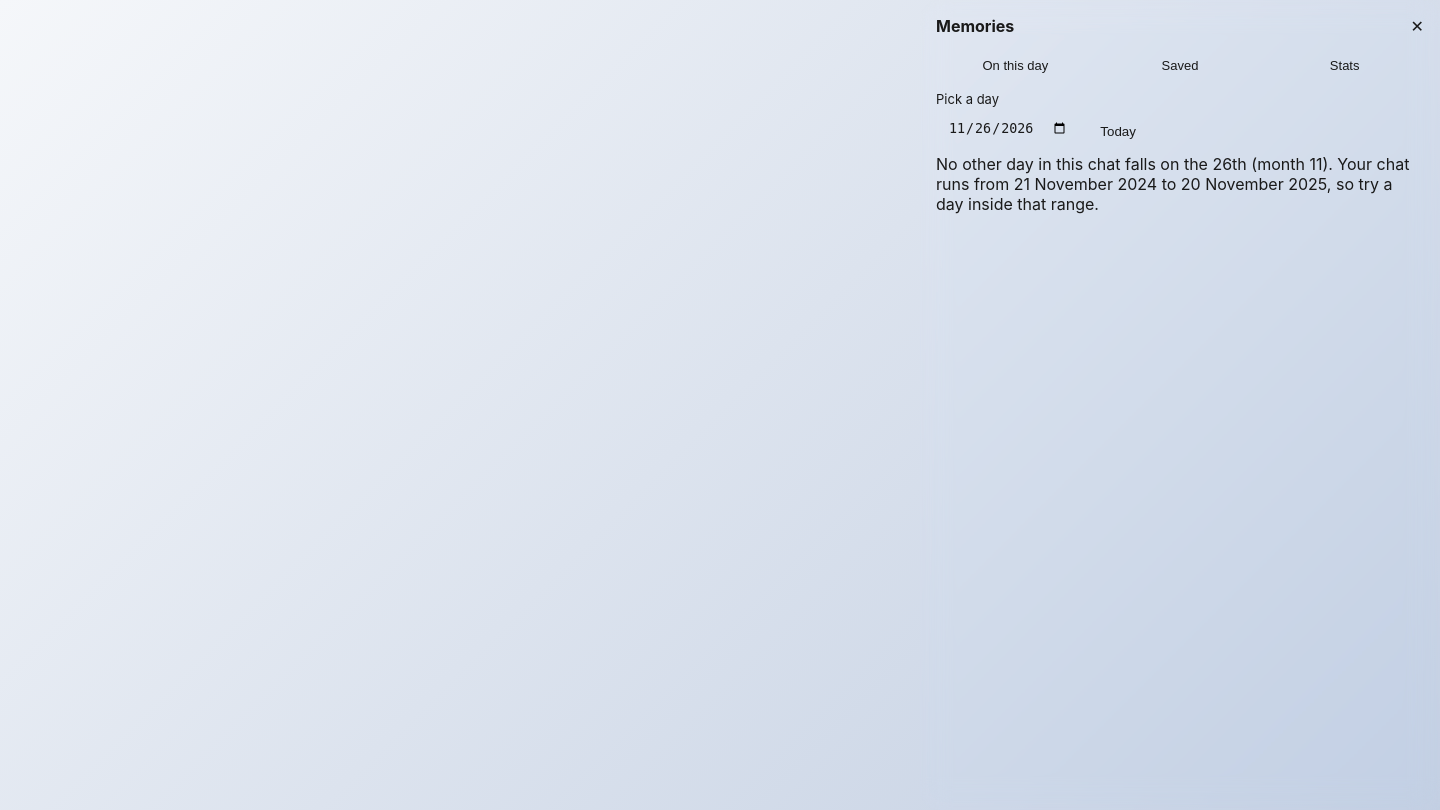
Stats › shows totals, who texts first, busiest days and favorite emojis
Later steps or results of the test are not shown.
Click the tab "Stats" at (1345, 66), box [1265,50,1424,81]
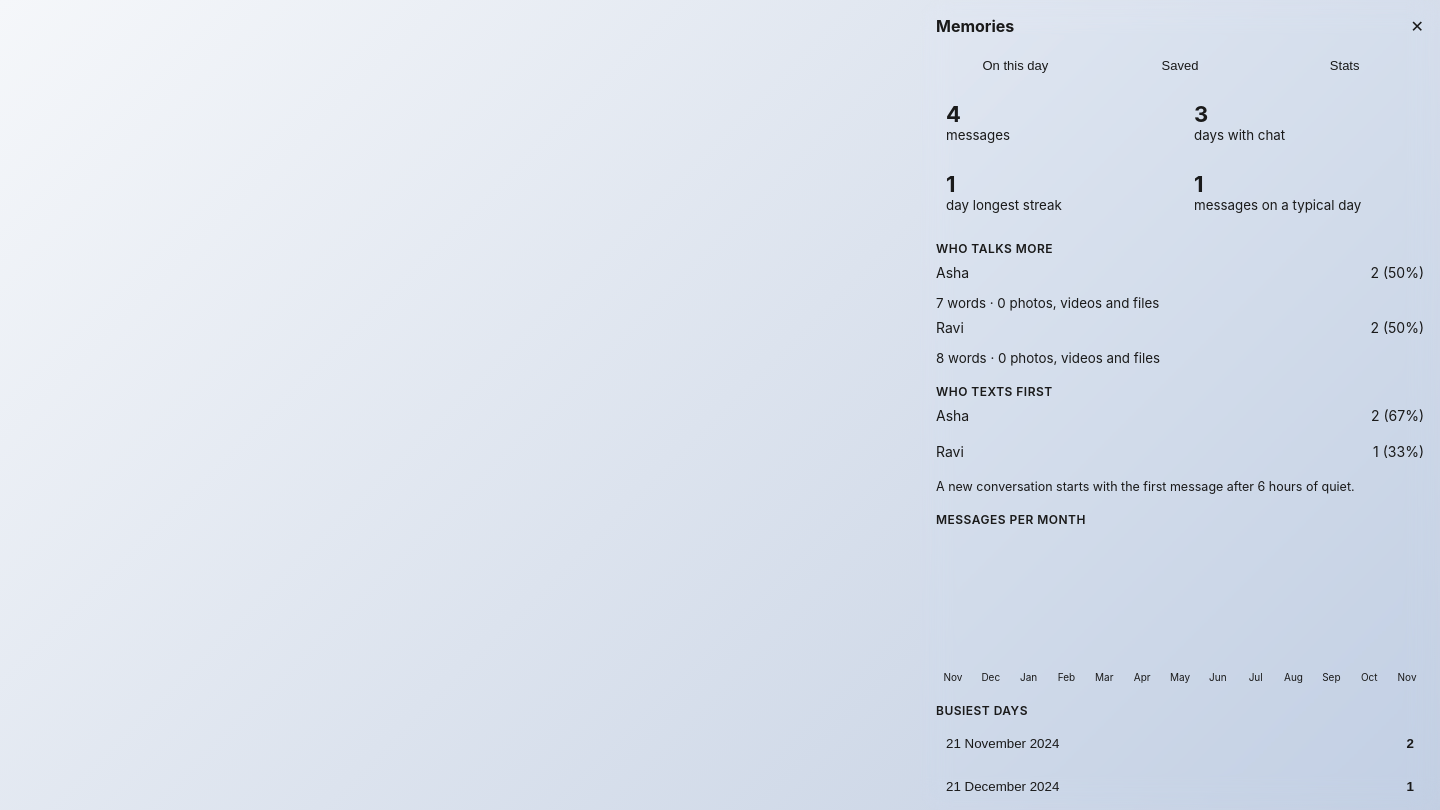
Expected: the text "messages" is shown, [946,127,1010,143]
Expected: the heading "Who talks more" is shown, [936,241,1053,256]
Expected: the heading "Who texts first" is shown, [936,384,1052,399]
